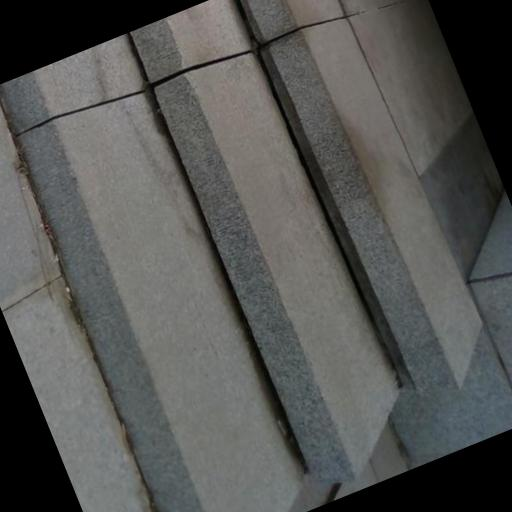stairs: (0, 0, 477, 511), (154, 54, 397, 482), (262, 20, 480, 391)
